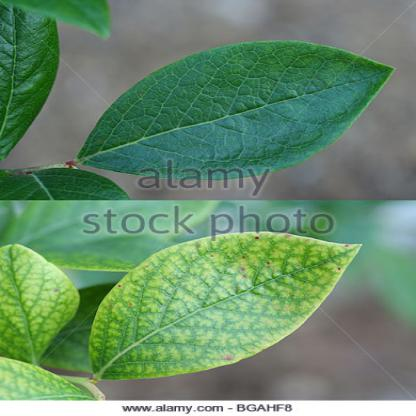blueberry leaf: (79, 36, 397, 175)
